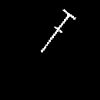double_crochet: (41, 9, 74, 51)
